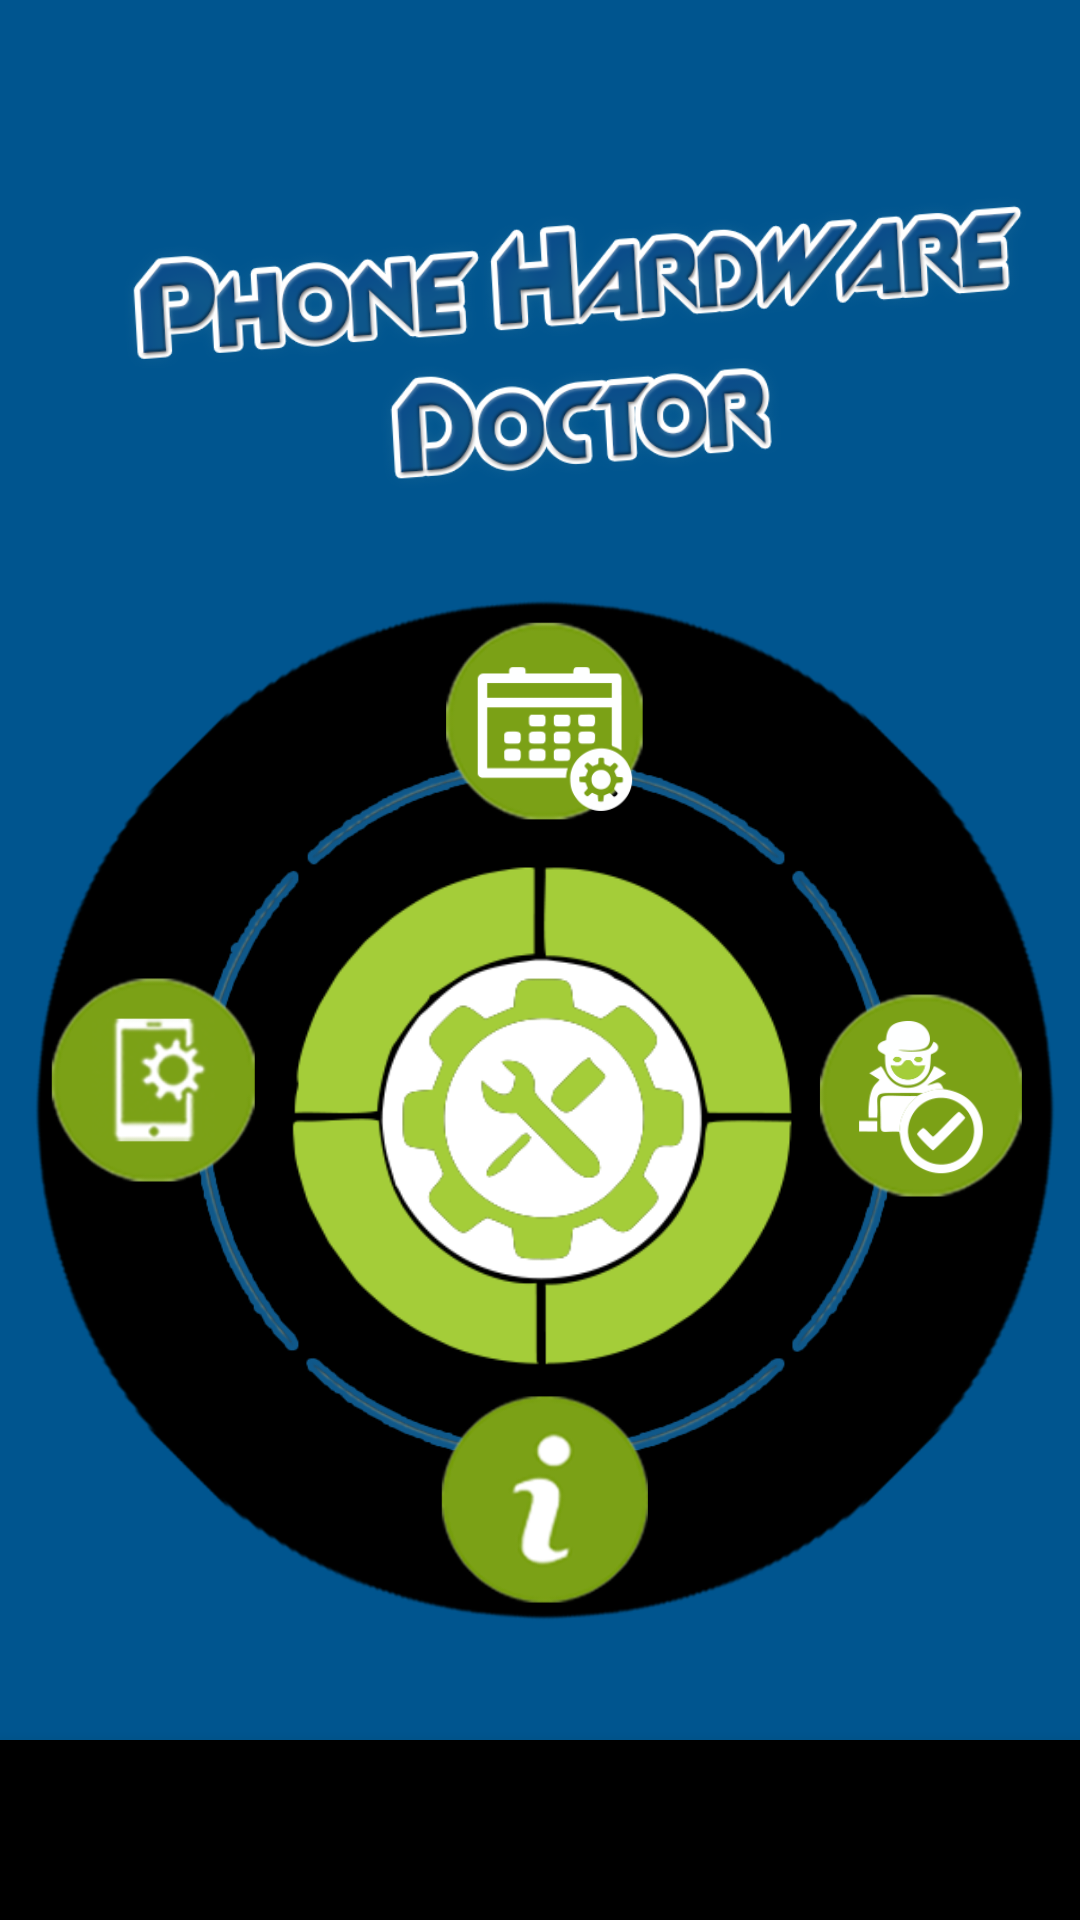

Where to tap for icons on this 1080 × 1920 app screen, as point (x, y):
about: point (547, 1508)
manual: point (146, 1080)
time: point (547, 710)
